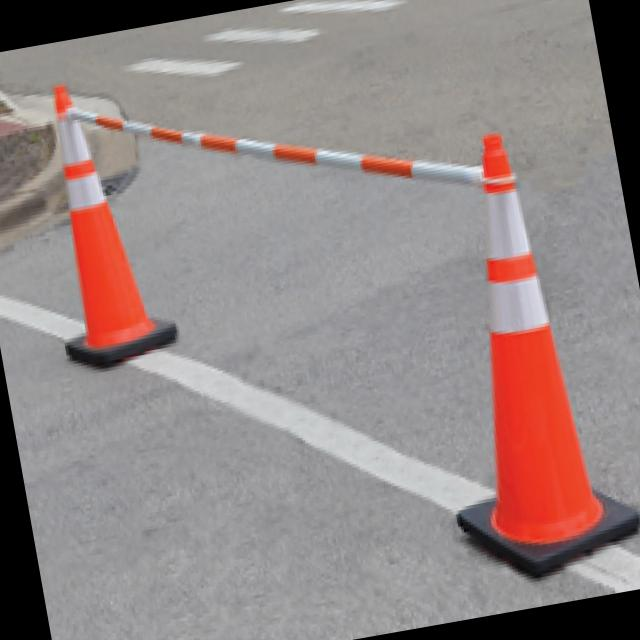cone: (390, 128, 618, 546), (29, 68, 152, 358)
